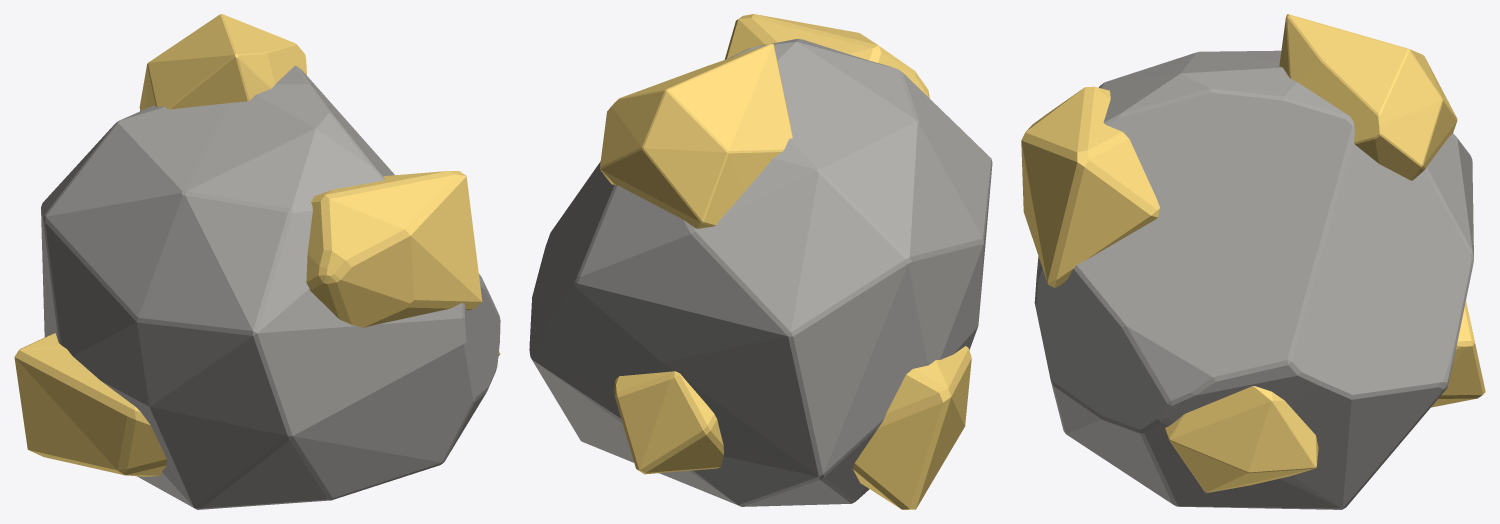
The model's file is gold_ore.glb.
3 views of the same model, side by side, from view 1: azimuth 30°, elevation 25°; view 2: azimuth 150°, elevation 25°; view 3: azimuth 270°, elevation 25° (orthographic). The views are drawn at different scales.
Visible parts, largest first — view 1: GoldOre; view 2: GoldOre; view 3: GoldOre.
Boxes of the visible parts, x1=… form: GoldOre: x1=14, y1=14, x2=500, y2=509; GoldOre: x1=529, y1=14, x2=992, y2=509; GoldOre: x1=1021, y1=14, x2=1485, y2=509.
Size of the model in its own units: 0.263 by 0.2524 by 0.2406.
